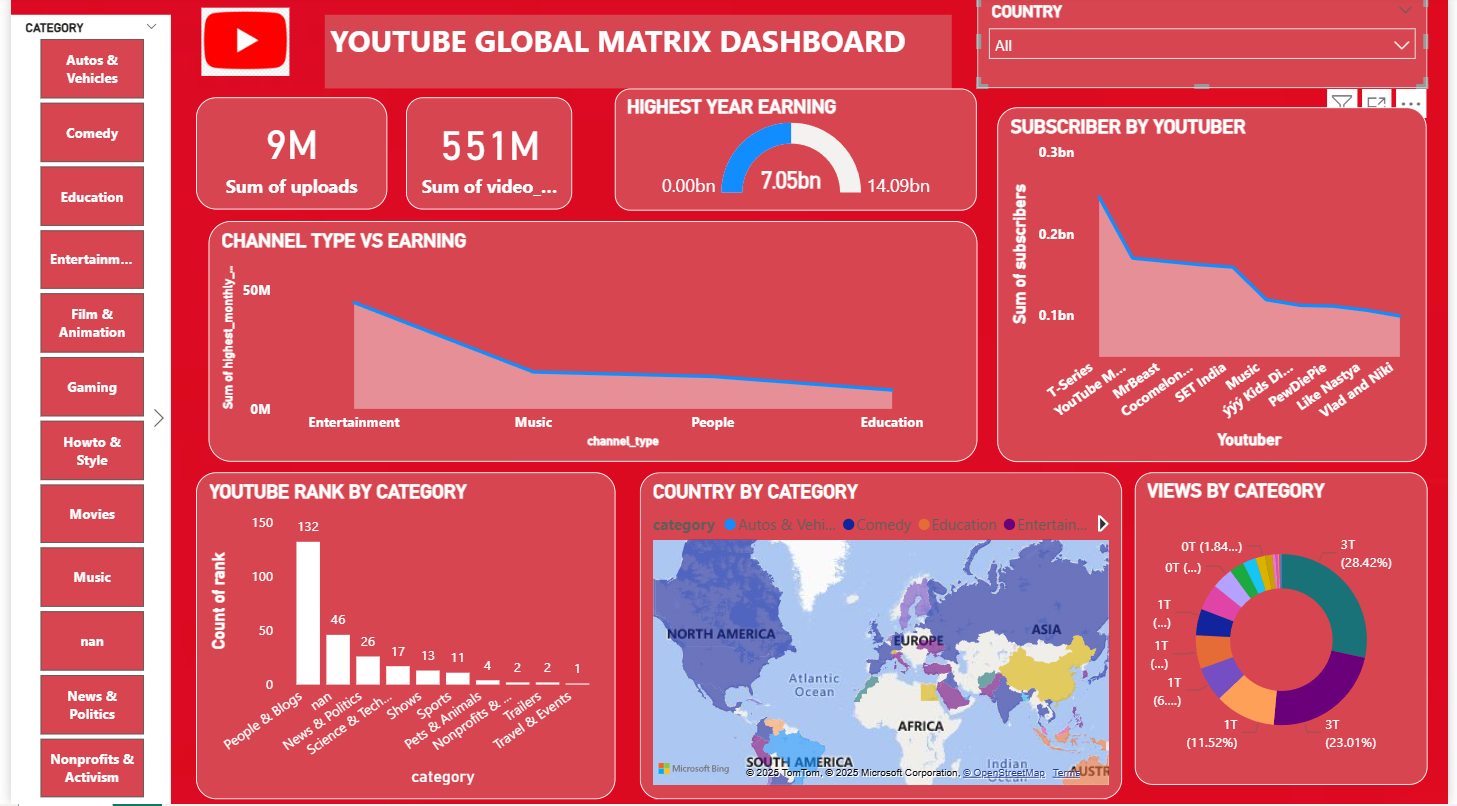

Layout of this report page (visuals, bound fields, positions):
{"tool":"powerbi","page":{"name":"Page 1","canvas":[1280,720],"ordinal":0},"visuals":[{"type":"columnChart","title":"YOUTUBE RANK BY CATEGORY","fields":{"Category":["Global YouTube Statistics.category"],"Y":["Global YouTube Statistics.rank"]},"box":[164.7,424,373.2,290.9],"z":0},{"type":"slicer","fields":{"Values":["Global YouTube Statistics.category"]},"box":[0,16.5,142.7,703.9],"z":1},{"type":"image","box":[164.7,0,87.8,82.3],"z":2},{"type":"filledMap","title":"COUNTRY BY CATEGORY","fields":{"Category":["Global YouTube Statistics.Country"],"Series":["Global YouTube Statistics.category"]},"box":[559.9,424,429.5,290.9],"z":3},{"type":"textbox","box":[279.9,16.5,558.5,65.9],"z":4},{"type":"donutChart","title":"VIEWS BY CATEGORY","fields":{"Category":["Global YouTube Statistics.category"],"Y":["Global YouTube Statistics.video views"]},"box":[1000.3,424,260.7,278.6],"z":5},{"type":"slicer","fields":{"Values":["Global YouTube Statistics.Country"]},"box":[860.2,0,400.5,82],"z":6},{"type":"areaChart","title":"SUBSCRIBER BY YOUTUBER","fields":{"Category":["Global YouTube Statistics.Youtuber"],"Y":["Global YouTube Statistics.subscribers"]},"box":[878.3,98.9,382.4,316.1],"z":7},{"type":"areaChart","title":"CHANNEL TYPE VS EARNING","fields":{"Category":["Global YouTube Statistics.channel_type"],"Y":["Global YouTube Statistics.highest_monthly_earnings"]},"box":[175.6,200.3,684.7,214.1],"z":8},{"type":"card","fields":{"Values":["Global YouTube Statistics.uploads"]},"box":[164.7,90.6,170.2,100.2],"z":9},{"type":"card","fields":{"Values":["Global YouTube Statistics.video_views_rank"]},"box":[351.3,90.6,148.2,100.2],"z":10},{"type":"gauge","title":"HIGHEST YEAR EARNING","fields":{"Y":["Global YouTube Statistics.highest_yearly_earnings"]},"box":[537.9,82.3,322.5,108.4],"z":11}]}

Visuals, with their boxes in screenshot pixels (x1, y1, x2, y2):
"YOUTUBE RANK BY CATEGORY" columnChart: bbox(192, 477, 618, 805)
slicer - Global YouTube Statistics.category: bbox(4, 11, 167, 805)
image: bbox(192, 0, 292, 86)
"COUNTRY BY CATEGORY" filledMap: bbox(643, 477, 1134, 805)
textbox: bbox(324, 11, 961, 87)
"VIEWS BY CATEGORY" donutChart: bbox(1146, 477, 1444, 795)
slicer - Global YouTube Statistics.Country: bbox(986, 0, 1444, 86)
"SUBSCRIBER BY YOUTUBER" areaChart: bbox(1007, 105, 1444, 466)
"CHANNEL TYPE VS EARNING" areaChart: bbox(204, 221, 986, 466)
card - Global YouTube Statistics.uploads: bbox(192, 96, 386, 210)
card - Global YouTube Statistics.video_views_rank: bbox(405, 96, 574, 210)
"HIGHEST YEAR EARNING" gauge: bbox(618, 86, 987, 210)
